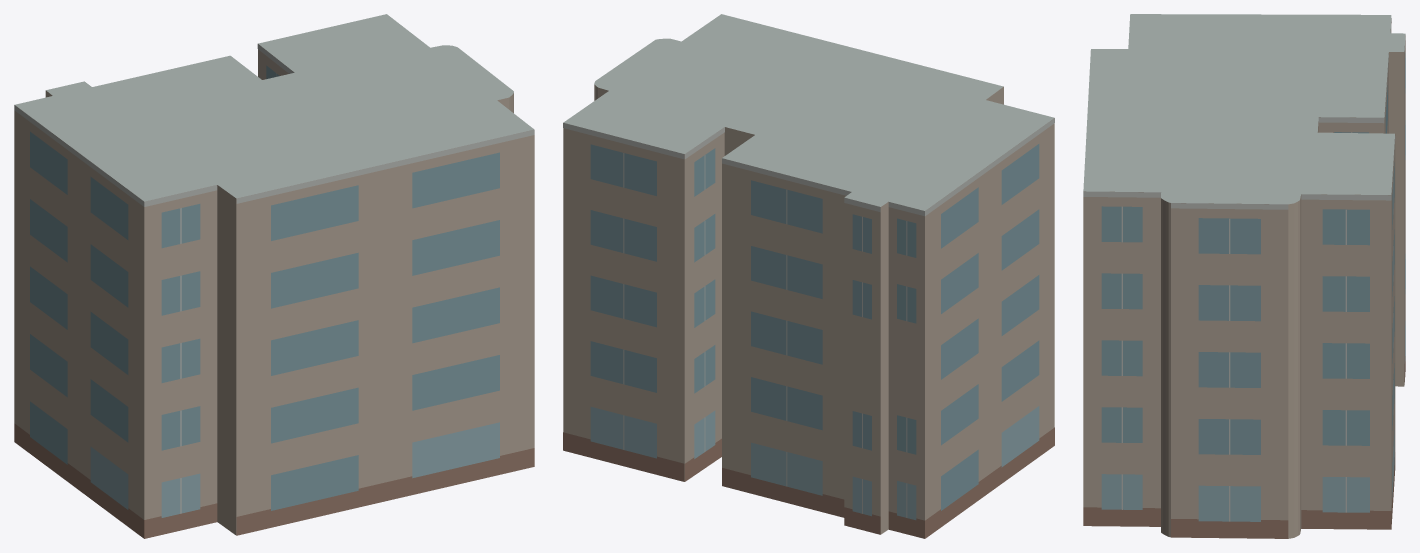
File: survey-upis-32518692.glb
The picture shows the model from 3 angles, left to right: view 1: azimuth 30°, elevation 25°; view 2: azimuth 150°, elevation 25°; view 3: azimuth 270°, elevation 25°; orthographic projection. The views are drawn at different scales.
Parts seen in each view (by area): view 1: survey-upis-32518692.tmp; view 2: survey-upis-32518692.tmp; view 3: survey-upis-32518692.tmp.
Part boxes in pixels (box(x1,y1,x2,y2)): survey-upis-32518692.tmp: box(14, 14, 534, 538); survey-upis-32518692.tmp: box(563, 14, 1054, 538); survey-upis-32518692.tmp: box(1083, 14, 1405, 538).
Size of the model in its own units: 18.31 by 15 by 13.11.
